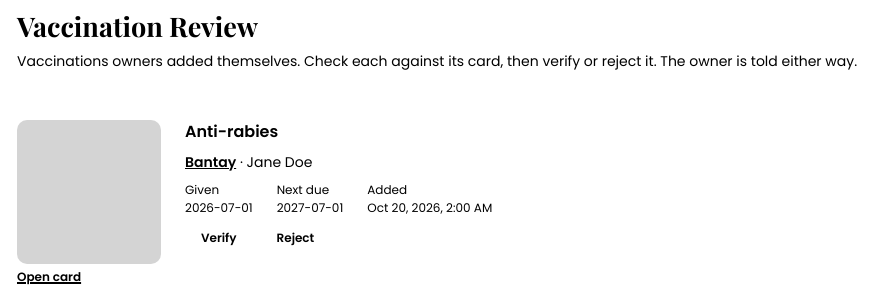
Test case: VaccinationReviewPage › verifying a record takes it off the queue
What coordinates should you click on to do the following:
click the button "Verify"
I would click on:
 (219, 238)
Its box is [185,224,252,250].
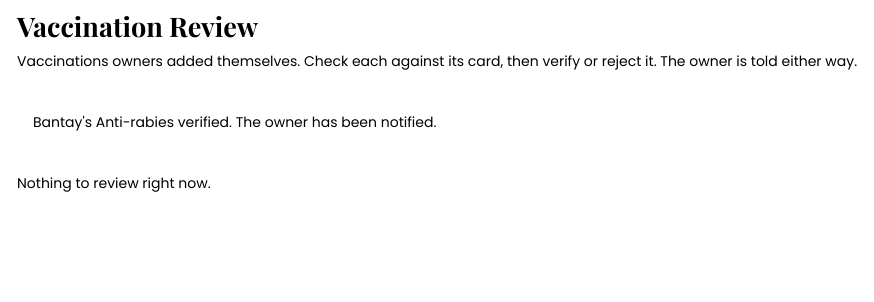
Result: the text "Bantay's Anti-rabies verified. The owner has been notified." is shown at [33,112,436,132]
Result: the text "Nothing to review right now." is shown at [17,172,211,192]
